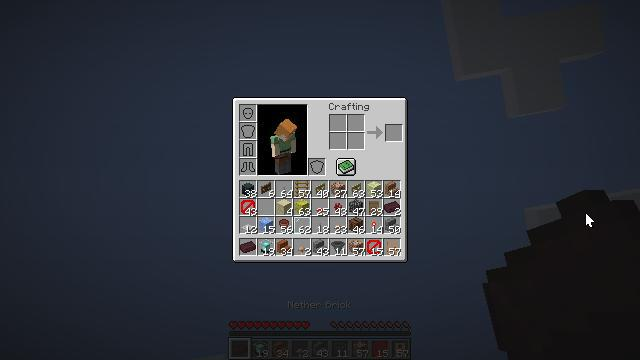cursor: (585, 212, 595, 228)
